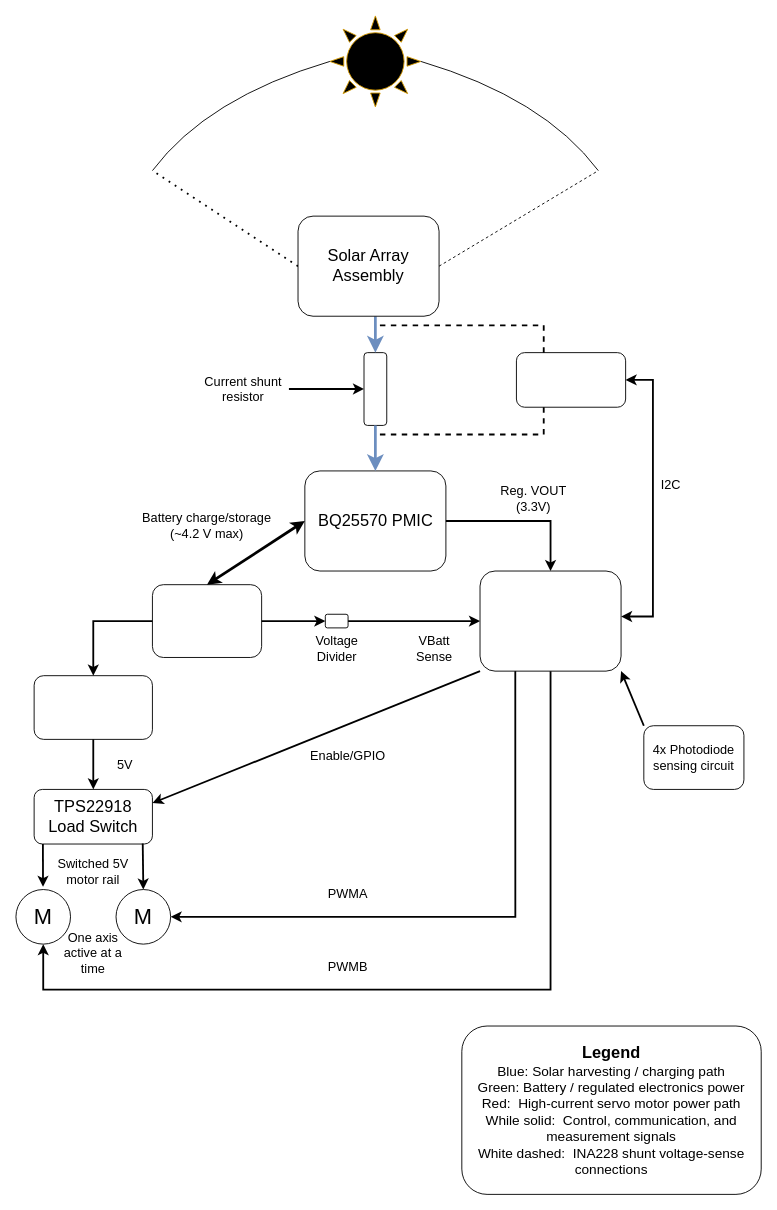
Some shapes in this 777 by 1210 pixel diagram are drawn without their labels. The shapes that lost their labels are listed below. From the top down, each one's centre as x and y in pixels, then its label:
point (571, 379): INA228 Solar V/I Measurement
point (207, 620): Battery (Li-ion, 3.7V 2000mAh)
point (550, 620): BGM220P MCU + BLE
point (92, 707): TPS61023 Boost Regulator
